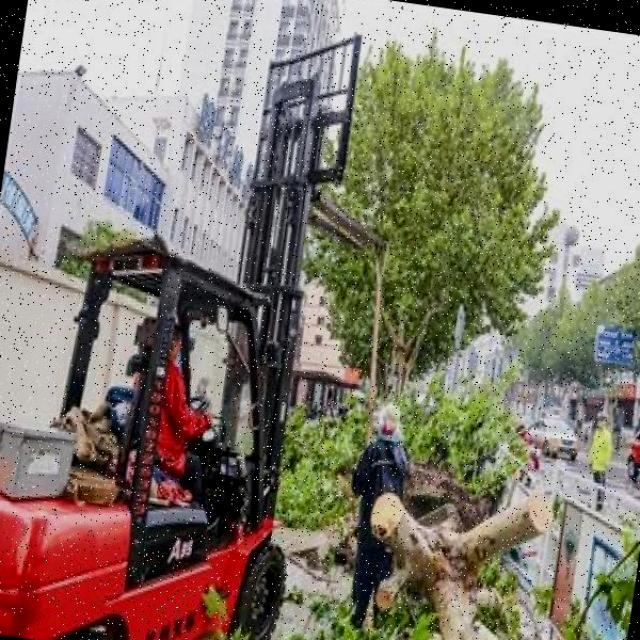fallen_object: (340, 451, 566, 640)
